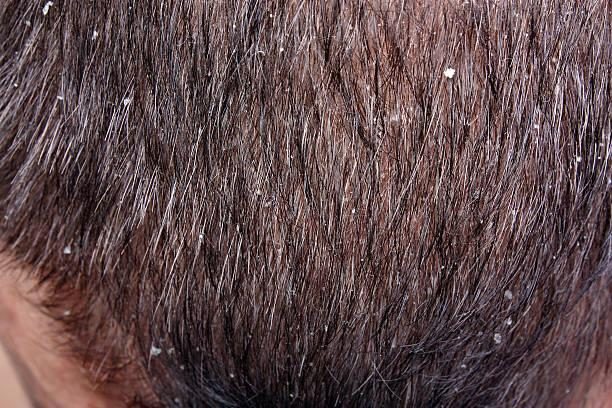dandruff: (142, 338, 168, 364), (248, 182, 272, 208), (82, 26, 108, 46), (486, 329, 511, 349), (437, 64, 461, 84), (49, 89, 73, 108), (36, 2, 62, 18), (498, 286, 518, 305), (59, 241, 76, 261), (568, 152, 589, 167), (275, 37, 286, 64), (317, 321, 333, 336), (59, 306, 74, 321), (118, 95, 134, 107), (274, 45, 290, 55), (225, 369, 238, 381)
low hair density: (366, 141, 415, 226), (415, 2, 479, 65), (118, 220, 155, 312), (76, 289, 115, 355), (352, 22, 394, 72)
